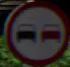No overtake: (5, 2, 65, 60)
